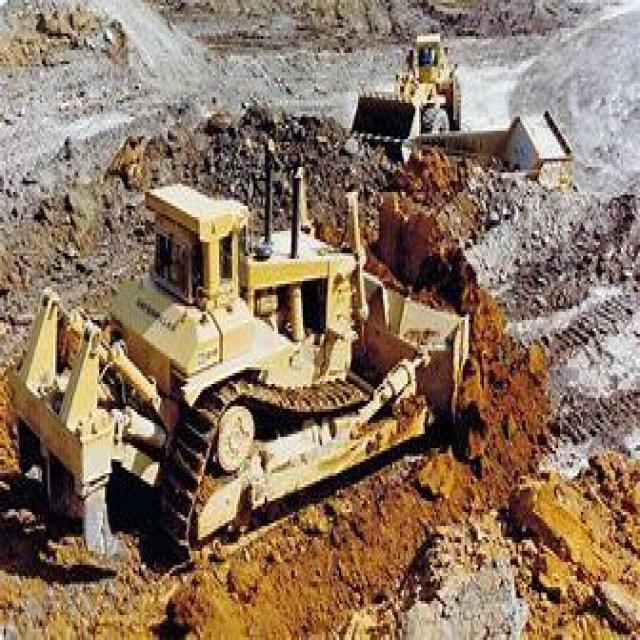Bulldozer: (9, 128, 507, 570)
